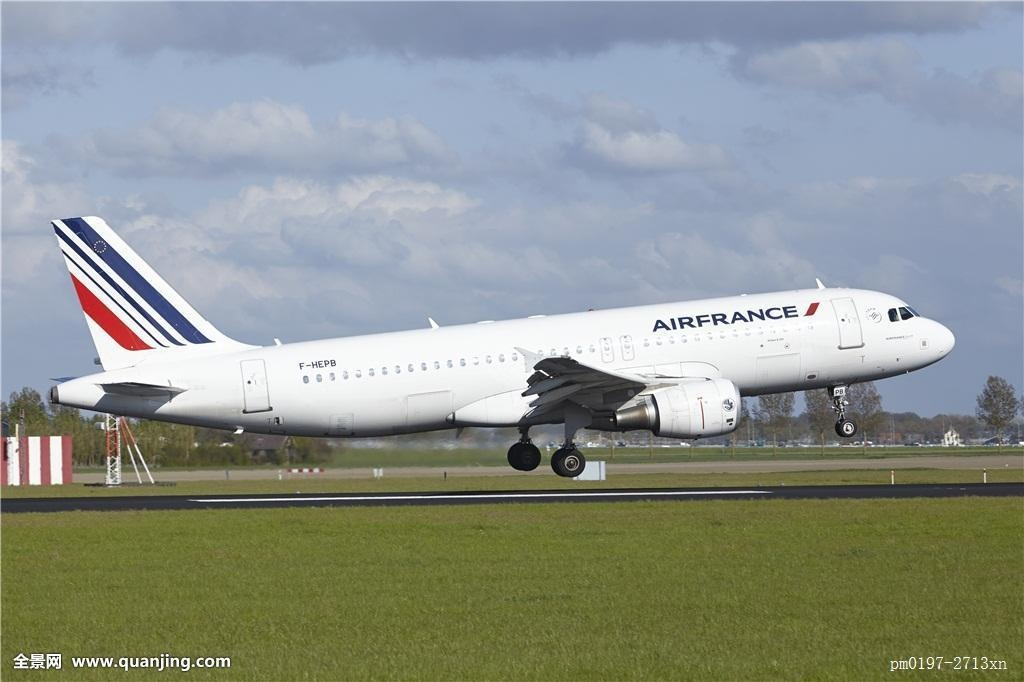airplane: (29, 210, 957, 437)
